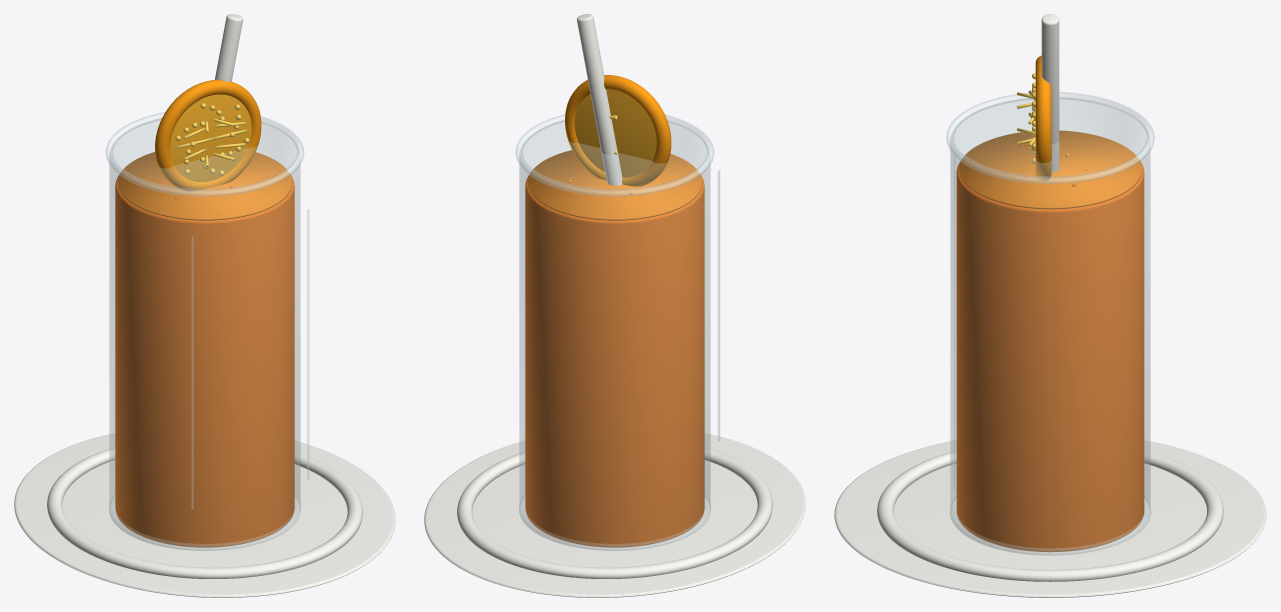
Rendered from orangejuice.glb.
3 renders of one model, left to right at view 1: azimuth 30°, elevation 25°; view 2: azimuth 150°, elevation 25°; view 3: azimuth 270°, elevation 25°, orthographic. The views are drawn at different scales.
Visible parts, largest first — view 1: Glass_Outer, Orange_Juice_Liquid, Plate_Inner_Surface, Juice_Surface, Modern_Plate_Raised_Rim, Orange_Slice_Main, Orange_Slice_Peel, Glass_Top_Rim, Glass_Bottom_Rim, White_Drinking_Straw, Glass_Reflection_1, Glass_Reflection_2; view 2: Glass_Outer, Orange_Juice_Liquid, Plate_Inner_Surface, Juice_Surface, Modern_Plate_Raised_Rim, Orange_Slice_Main, Orange_Slice_Peel, White_Drinking_Straw, Glass_Top_Rim, Glass_Bottom_Rim, Glass_Reflection_1; view 3: Glass_Outer, Orange_Juice_Liquid, Plate_Inner_Surface, Juice_Surface, Modern_Plate_Raised_Rim, Glass_Top_Rim, White_Drinking_Straw, Orange_Slice_Peel, Glass_Bottom_Rim.
Part boxes in pixels (x1=…): Glass_Outer: x1=109, y1=118, x2=300, y2=549; Orange_Juice_Liquid: x1=115, y1=174, x2=294, y2=547; Plate_Inner_Surface: x1=14, y1=433, x2=395, y2=597; Juice_Surface: x1=117, y1=152, x2=292, y2=220; Modern_Plate_Raised_Rim: x1=47, y1=447, x2=362, y2=578; Orange_Slice_Main: x1=170, y1=94, x2=251, y2=182; Orange_Slice_Peel: x1=155, y1=79, x2=261, y2=191; Glass_Top_Rim: x1=106, y1=112, x2=303, y2=196; Glass_Bottom_Rim: x1=109, y1=495, x2=300, y2=550; White_Drinking_Straw: x1=215, y1=14, x2=243, y2=81; Glass_Reflection_1: x1=191, y1=237, x2=193, y2=508; Glass_Reflection_2: x1=307, y1=209, x2=309, y2=480; Glass_Outer: x1=519, y1=120, x2=710, y2=549; Orange_Juice_Liquid: x1=525, y1=174, x2=704, y2=547; Plate_Inner_Surface: x1=424, y1=433, x2=805, y2=597; Juice_Surface: x1=527, y1=150, x2=702, y2=220; Modern_Plate_Raised_Rim: x1=457, y1=447, x2=772, y2=578; Orange_Slice_Main: x1=574, y1=89, x2=656, y2=177; Orange_Slice_Peel: x1=565, y1=75, x2=671, y2=186; White_Drinking_Straw: x1=576, y1=14, x2=622, y2=185; Glass_Top_Rim: x1=516, y1=114, x2=713, y2=196; Glass_Bottom_Rim: x1=519, y1=495, x2=710, y2=550; Glass_Reflection_1: x1=718, y1=170, x2=719, y2=441; Glass_Outer: x1=950, y1=97, x2=1150, y2=554; Orange_Juice_Liquid: x1=956, y1=161, x2=1144, y2=552; Plate_Inner_Surface: x1=834, y1=440, x2=1266, y2=597; Juice_Surface: x1=959, y1=130, x2=1141, y2=209; Modern_Plate_Raised_Rim: x1=877, y1=450, x2=1223, y2=581; Glass_Top_Rim: x1=946, y1=92, x2=1154, y2=183; White_Drinking_Straw: x1=1041, y1=14, x2=1059, y2=172; Orange_Slice_Peel: x1=1035, y1=55, x2=1051, y2=181; Glass_Bottom_Rim: x1=950, y1=496, x2=1150, y2=555.
Size of the model in its own units: 4.57 by 6.86 by 5.08.
